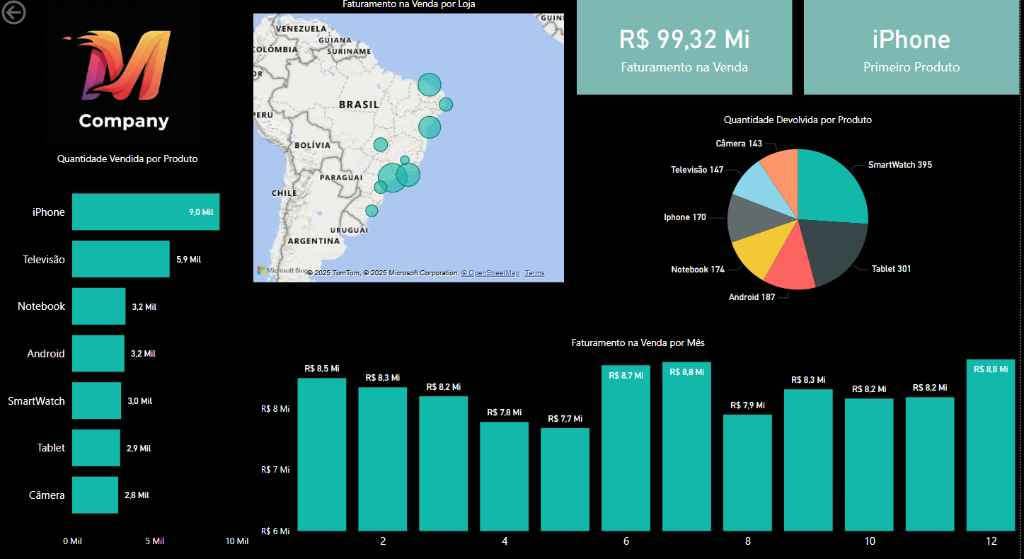

What the dashboard file says about the page in this screenshot:
{"tool":"powerbi","page":{"name":"Página 1","canvas":[1280,720],"ordinal":0},"visuals":[{"type":"barChart","fields":{"Y":["Sum(Base Vendas.Quantidade Vendida)"],"Category":["Base Vendas.Produto"]},"box":[0,194.4,324.4,506.5],"z":1000},{"type":"card","fields":{"Values":["Sum(Base Vendas.Faturamento na Venda)"]},"box":[725.6,0,269.7,123.2],"z":2000},{"type":"actionButton","box":[0,0,100,40],"z":3000},{"type":"card","fields":{"Values":["Min(Base Vendas.Produto)"]},"box":[1010.3,0,269.7,123.2],"z":4000},{"type":"columnChart","fields":{"Y":["Sum(Base Vendas.Faturamento na Venda)"],"Category":["Base Vendas.Mês"]},"box":[324.9,424.7,955.1,276.2],"z":5000},{"type":"pieChart","fields":{"Y":["Sum(Base Devoluções.Quantidade Devolvida)"],"Category":["Base Devoluções.Produto"]},"box":[725.3,145.4,554.2,251.8],"z":6000},{"type":"map","fields":{"Category":["Base Vendas.Loja"],"Size":["Sum(Base Vendas.Faturamento na Venda)"]},"box":[314.5,0,400.4,363.2],"z":7000},{"type":"image","box":[0,0,314.5,193.8],"z":7001}]}

Visuals, with their boxes on the page's 1280x720 design canvas (x1, y1, x2, y2). These are canvas units, not pixel positions in the 1024x559 screenshot, which may show the page scaled, cropped or inside an application window:
barChart - Sum(Base Vendas.Quantidade Vendida) x Base Vendas.Produto: {"left": 0, "top": 194, "right": 324, "bottom": 701}
card - Sum(Base Vendas.Faturamento na Venda): {"left": 726, "top": 0, "right": 995, "bottom": 123}
actionButton: {"left": 0, "top": 0, "right": 100, "bottom": 40}
card - Min(Base Vendas.Produto): {"left": 1010, "top": 0, "right": 1280, "bottom": 123}
columnChart - Sum(Base Vendas.Faturamento na Venda) x Base Vendas.Mês: {"left": 325, "top": 425, "right": 1280, "bottom": 701}
pieChart - Sum(Base Devoluções.Quantidade Devolvida) x Base Devoluções.Produto: {"left": 725, "top": 145, "right": 1280, "bottom": 397}
map - Base Vendas.Loja x Sum(Base Vendas.Faturamento na Venda): {"left": 314, "top": 0, "right": 715, "bottom": 363}
image: {"left": 0, "top": 0, "right": 314, "bottom": 194}
